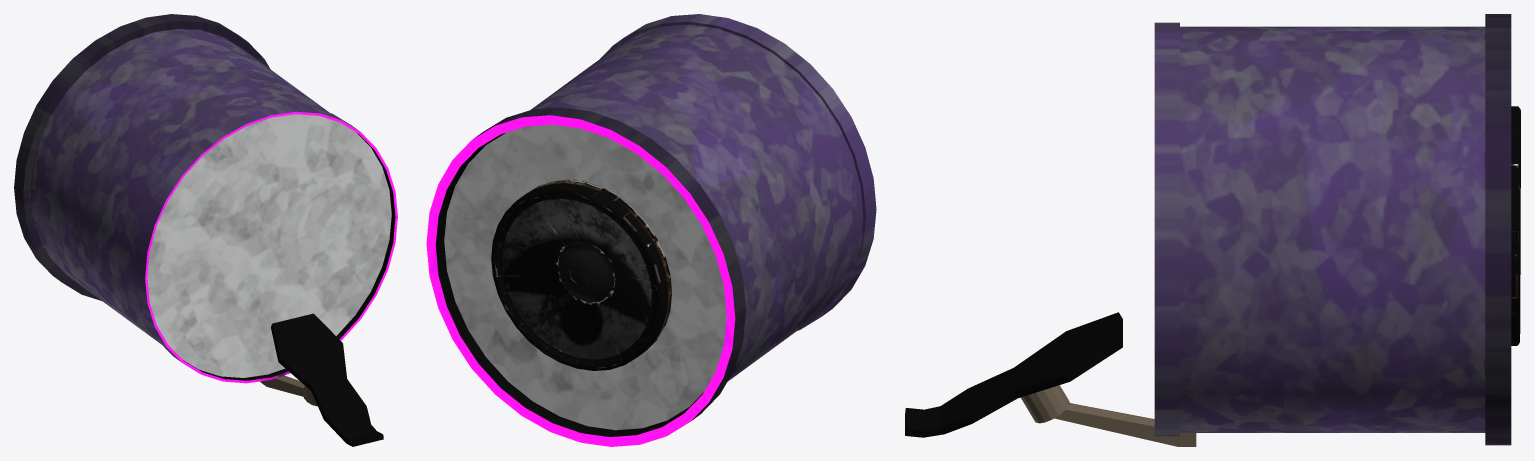
File: DrumKickPurple.glb
The picture shows the model from 3 angles, left to right: view 1: azimuth 30°, elevation 25°; view 2: azimuth 150°, elevation 25°; view 3: azimuth 270°, elevation 25°; orthographic projection. The views are drawn at different scales.
Parts seen in each view (by area): view 1: tomb.LP.001; view 2: tomb.LP.001; view 3: tomb.LP.001.
Part boxes in pixels (x1=…): tomb.LP.001: x1=14, y1=14, x2=397, y2=446; tomb.LP.001: x1=426, y1=14, x2=876, y2=446; tomb.LP.001: x1=905, y1=14, x2=1520, y2=446.
Bounding box in the file's own units: 2.12 × 2.19 × 3.03.
1 material, 1 textured.
